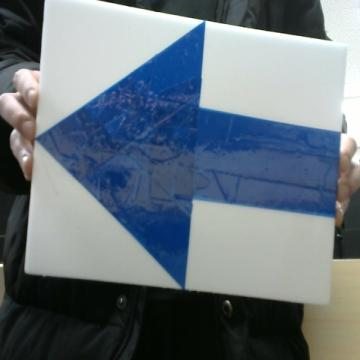blue_left: (38, 23, 338, 286)
